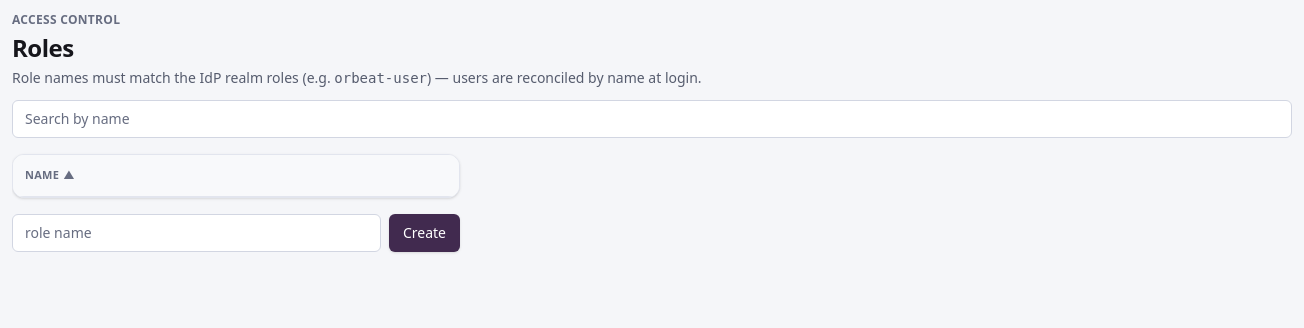
Test: RolesPage: searching issues ?q= with no cursor
The width and height of the screenshot is (1304, 328).
In the search field named "Search roles": (652, 119) [12,100,1292,138], type "orbeat"
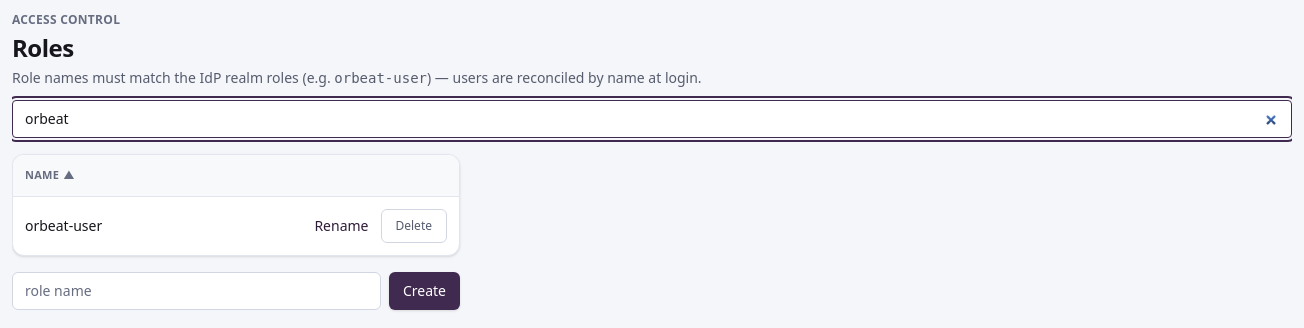
Now the 2nd text "orbeat-user" is shown, box [25,216,102,236]
